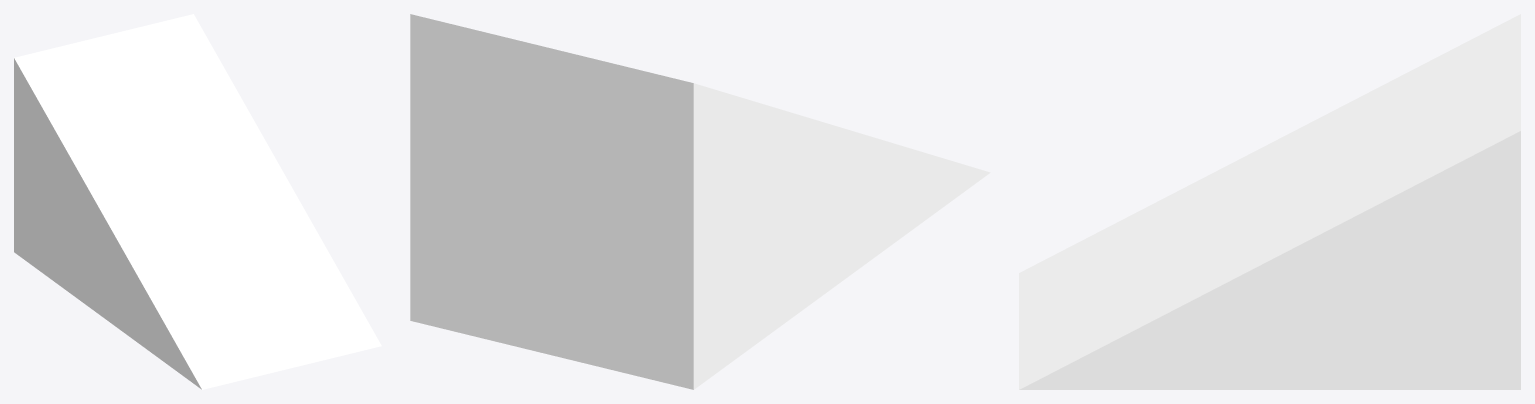
Rendered from BaseRamp.009.glb.
The picture shows the model from 3 angles, left to right: view 1: azimuth 30°, elevation 25°; view 2: azimuth 150°, elevation 25°; view 3: azimuth 270°, elevation 25°; orthographic projection. The views are drawn at different scales.
Parts seen in each view (by area): view 1: BaseRamp.009; view 2: BaseRamp.009; view 3: BaseRamp.009.
Part boxes in pixels (left/top/right/bottom): BaseRamp.009: left=14, top=14, right=381, bottom=389; BaseRamp.009: left=410, top=14, right=990, bottom=389; BaseRamp.009: left=1019, top=14, right=1520, bottom=389.
Size of what is drawn, in the model's own units: 1.85 by 1.91 by 3.35.
Materials: 1 (1 with a texture image).
